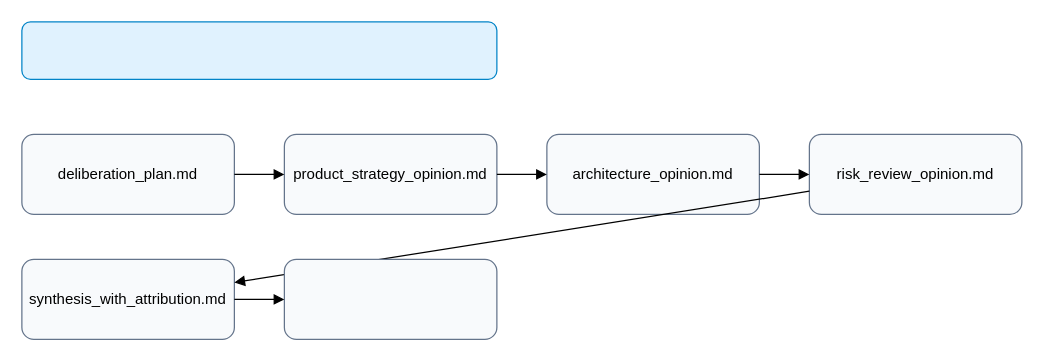
The diagram is 1044 pixels wide and 361 high, and some of its shapes have lost their labels. Here are the shapes that lost their labels. From the top down, the centre of each, then its label:
At point (259, 50): "V4.4 Deliberation Artifact Lineage".
At point (390, 298): "contradiction_review.json".
